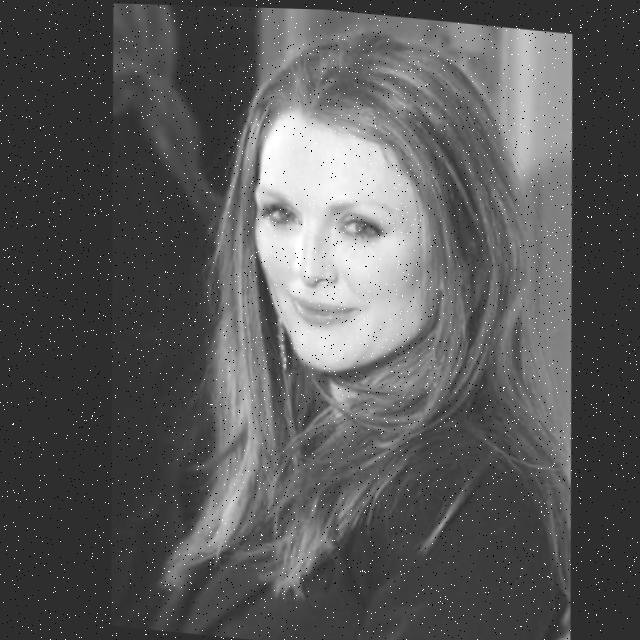face: (258, 85, 499, 399)
